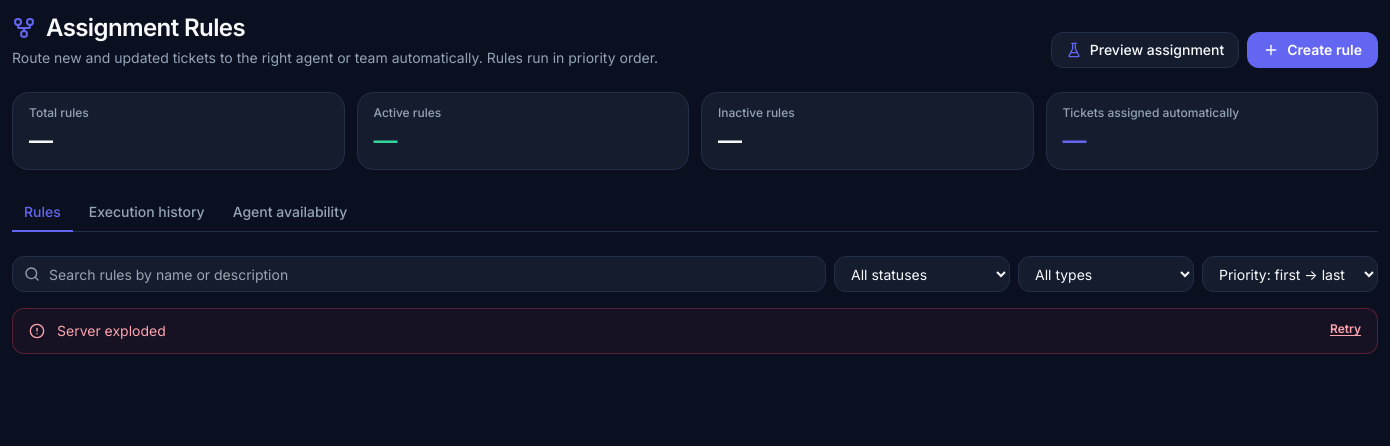
AssignmentRulesPage › shows an error state with retry
The width and height of the screenshot is (1390, 446).
Check: the text "Server exploded" is shown, box [57,322,166,339]
Click the button "Retry". click: (1346,329)
box: [1330,321,1361,337]
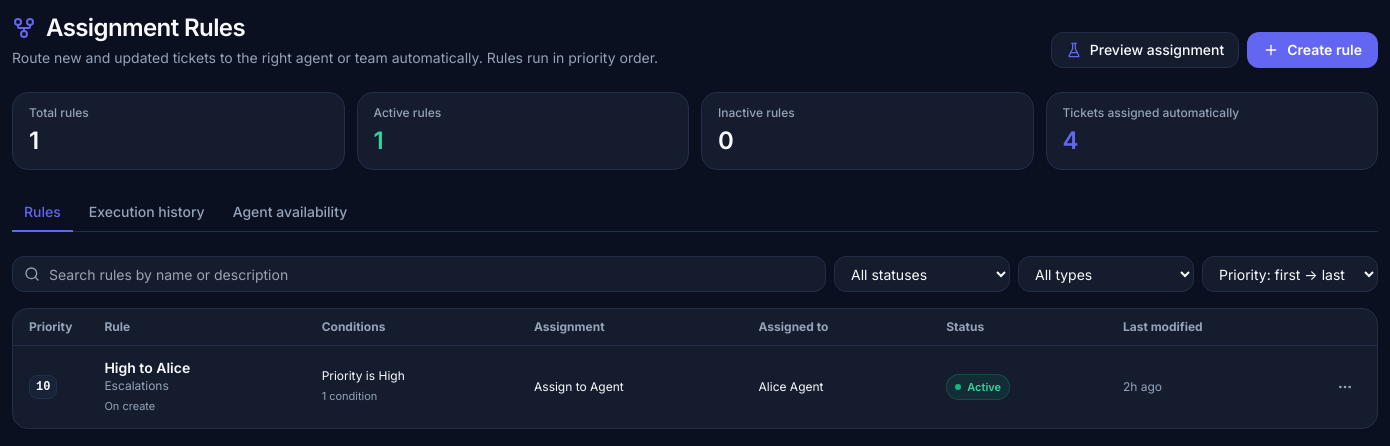
Check: the button "High to Alice" is shown, box [104,358,190,378]
